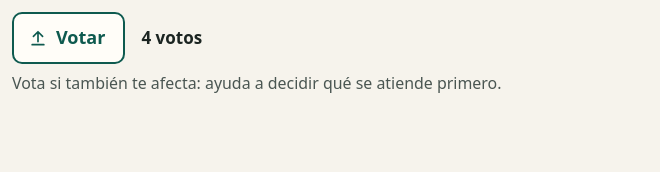
Scenario: <VoteButton> › si falla la red, vuelve al estado anterior y lo dice
This screenshot has width=660, height=172.
Click the button "Votar": coordinates (69, 38) [12,12,126,64]
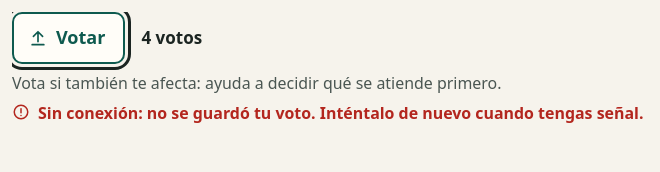
Check: the text "4 votos" is shown, box [142,25,202,51]
Check: the message shows "Sin conexión: no se guardó tu voto", box [38,102,643,124]
